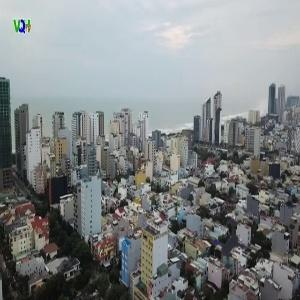drone: (177, 193, 283, 299)
